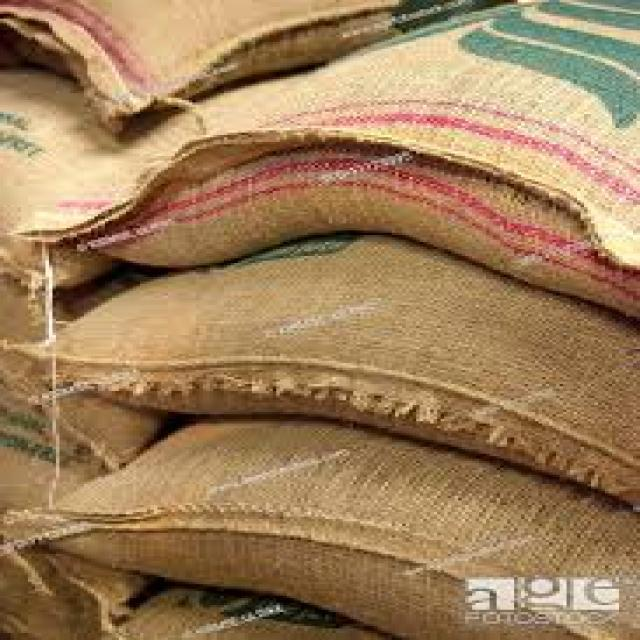gunny_bag: (50, 0, 640, 324), (39, 233, 636, 482), (41, 414, 636, 638), (2, 0, 522, 144)
